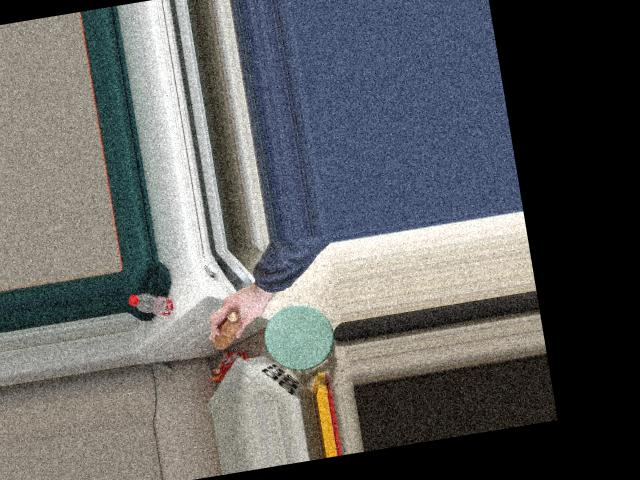sweet_potato: (203, 306, 249, 349)
